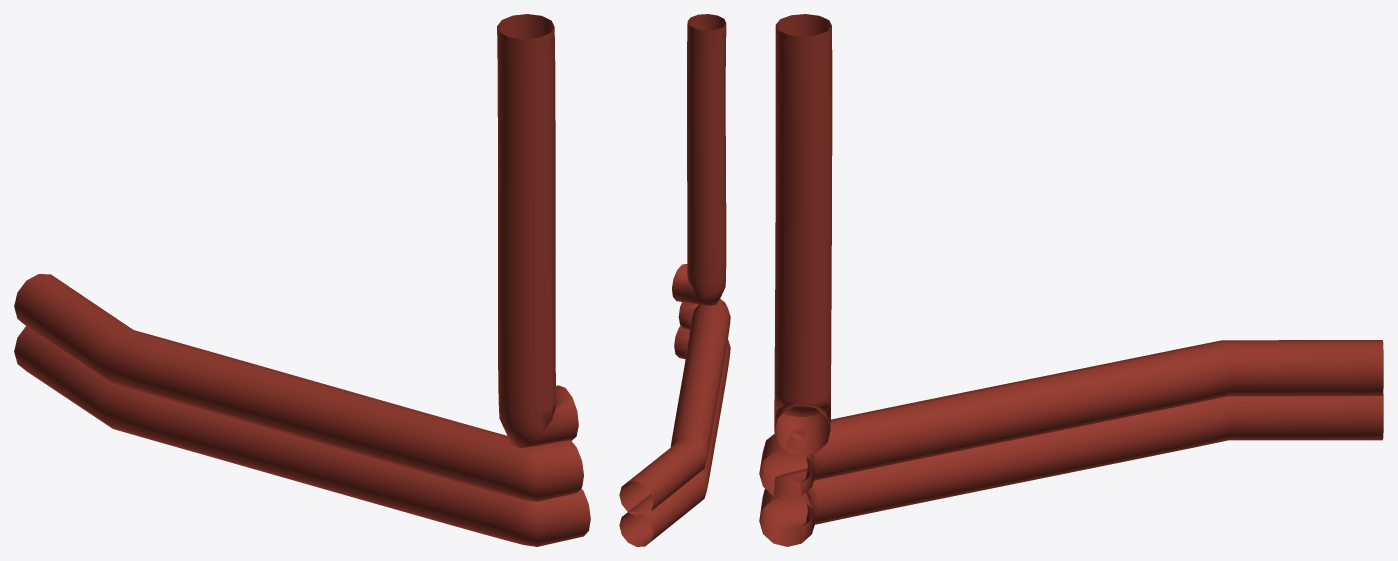
File: SpaceShipPipes1.glb
3 renders of one model, left to right at view 1: azimuth 30°, elevation 25°; view 2: azimuth 150°, elevation 25°; view 3: azimuth 270°, elevation 25°, orthographic. The views are drawn at different scales.
Parts seen in each view (by area): view 1: Pipes; view 2: Pipes; view 3: Pipes.
Boxes of the visible parts, box(x1,y1,x2,y2) form: Pipes: box(14, 14, 590, 546); Pipes: box(619, 14, 730, 546); Pipes: box(759, 14, 1383, 546).
Bounding box in the file's own units: 1.35 × 2.56 × 2.87.
